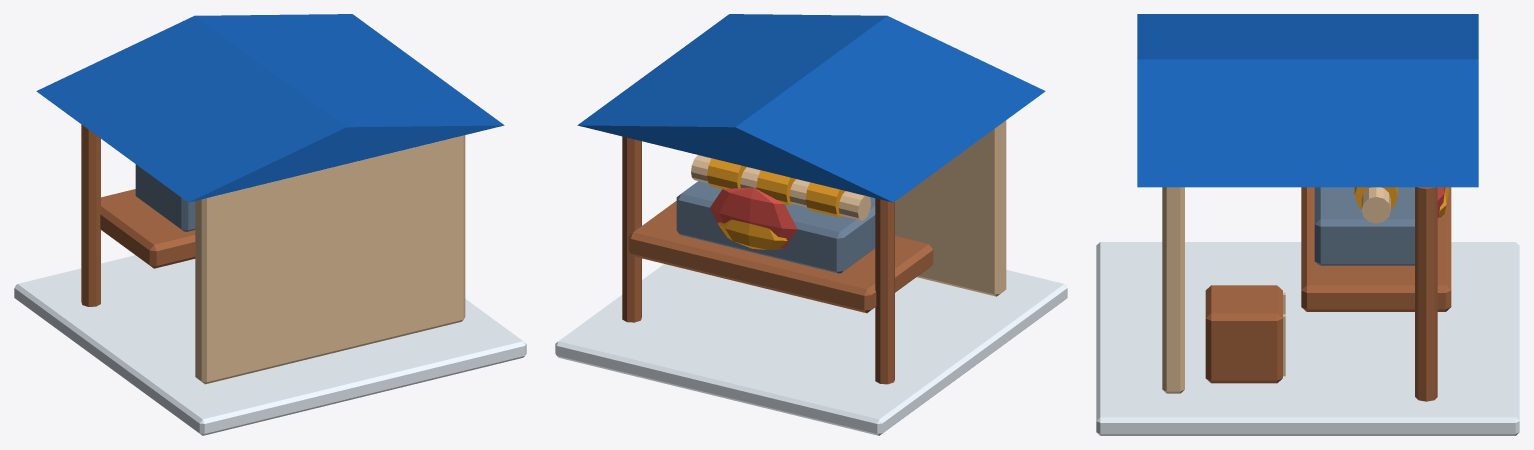
The model's file is Building_Chikuwa_2x2_v001.fbx.
3 renders of one model, left to right at view 1: azimuth 30°, elevation 25°; view 2: azimuth 150°, elevation 25°; view 3: azimuth 270°, elevation 25°, orthographic. The views are drawn at different scales.
Parts seen in each view (by area): view 1: Roof, BackWall, Foundation, Worktop, Post.001, Oven; view 2: Roof, Foundation, BackWall, Worktop, Oven, Post.001, Post, FlameHigh_Anim, Grill_Anim, FlameLow_Anim, Chikuwa.002, Chikuwa (+1 smaller); view 3: Roof, Foundation, Worktop, Crate, Oven, Post, BackWall, Grill_Anim.
Part boxes in pixels (box(x1,y1,x2,y2)): Roof: box(36, 14, 504, 202); BackWall: box(195, 135, 465, 384); Foundation: box(14, 255, 526, 435); Worktop: box(100, 189, 195, 268); Post.001: box(81, 124, 100, 306); Oven: box(135, 164, 195, 231); Roof: box(577, 14, 1045, 202); Foundation: box(555, 264, 1067, 435); BackWall: box(895, 120, 1006, 296); Worktop: box(628, 201, 933, 313); Oven: box(676, 181, 875, 273); Post.001: box(875, 198, 894, 384); Post: box(622, 136, 641, 322); FlameHigh_Anim: box(710, 187, 797, 249); Grill_Anim: box(691, 155, 870, 220); FlameLow_Anim: box(717, 219, 787, 249); Chikuwa.002: box(805, 182, 845, 217); Chikuwa: box(707, 158, 746, 188); Roof: box(1137, 14, 1478, 187); Foundation: box(1096, 242, 1519, 435); Worktop: box(1301, 187, 1451, 311); Crate: box(1205, 285, 1282, 383); Oven: box(1314, 187, 1414, 265); Post: box(1415, 187, 1437, 401); BackWall: box(1162, 187, 1184, 393); Grill_Anim: box(1361, 187, 1390, 223).
Size of the model in its own units: 186 by 140 by 186.
